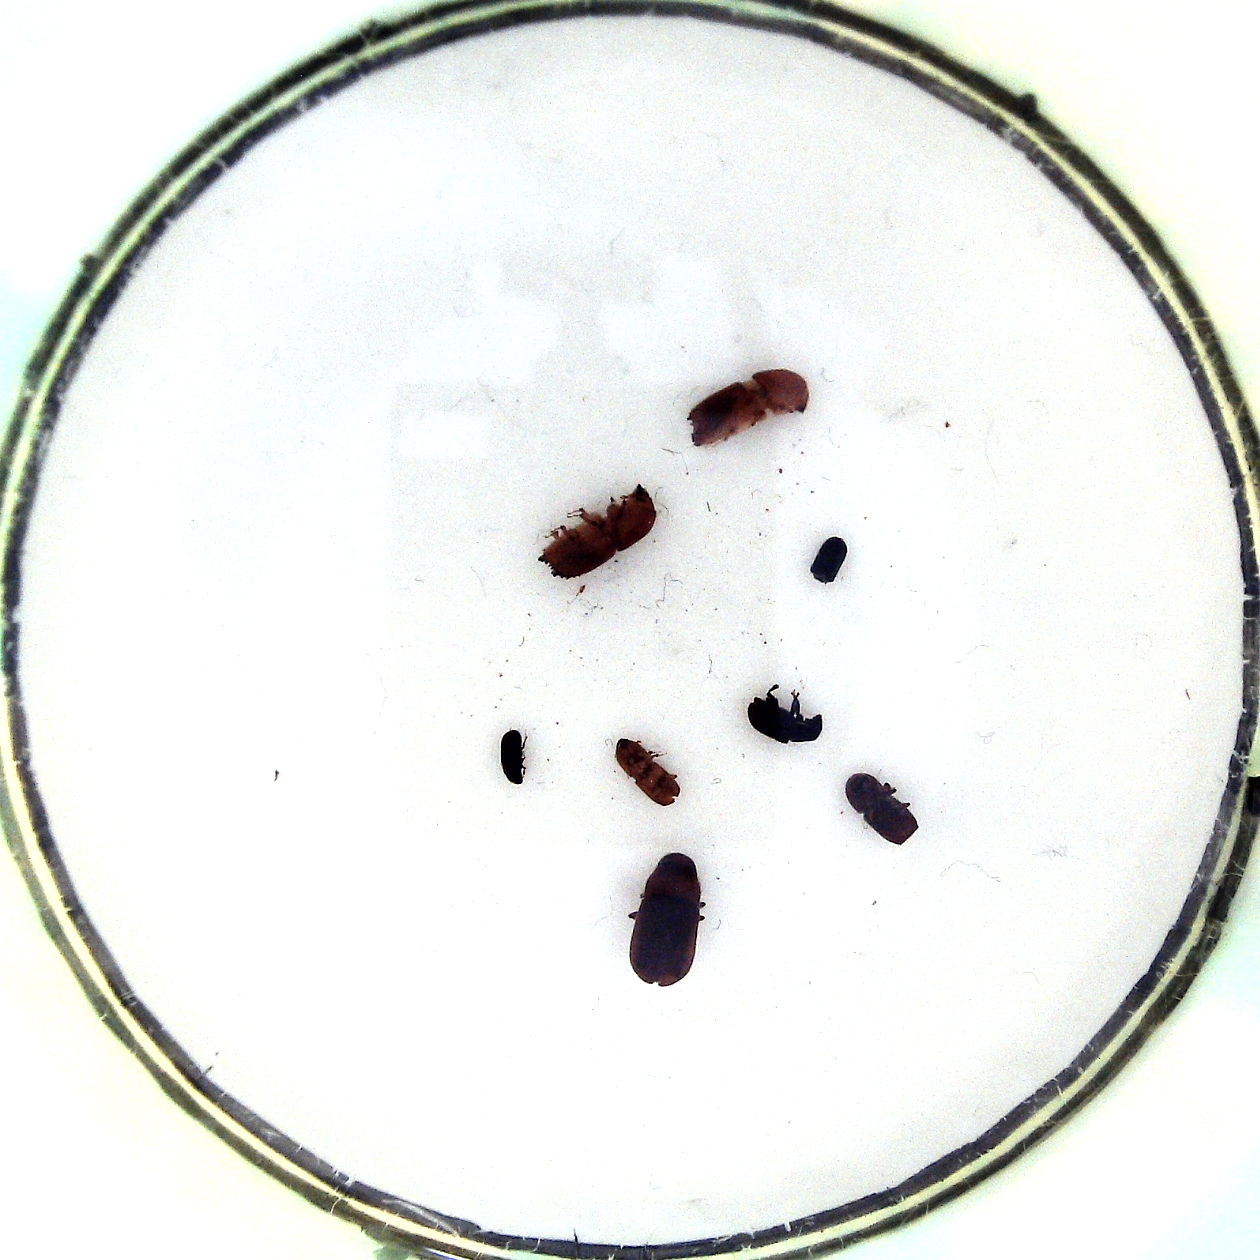Boerner: (528, 483, 659, 579), (683, 363, 813, 448)
Leconte: (629, 848, 713, 995)
Linnaeus: (847, 771, 918, 854)
acuminatus: (608, 738, 682, 812)
armandi: (744, 680, 826, 751)
coleoptera: (498, 725, 528, 797), (807, 537, 850, 585)
